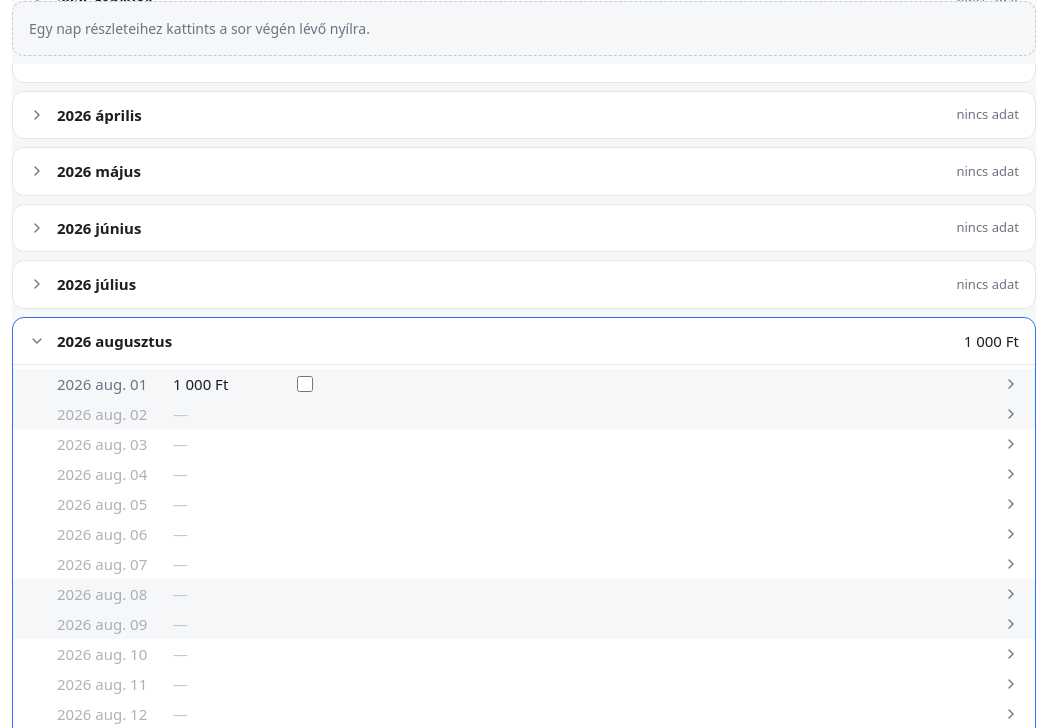
Test: HomeComponent › should untick the checkbox again and say so when the patch fails
The width and height of the screenshot is (1048, 728).
(page scrolled)
Click the checkbox with class "review".
click(305, 384)  # box [297,376,313,392]
(page scrolled)
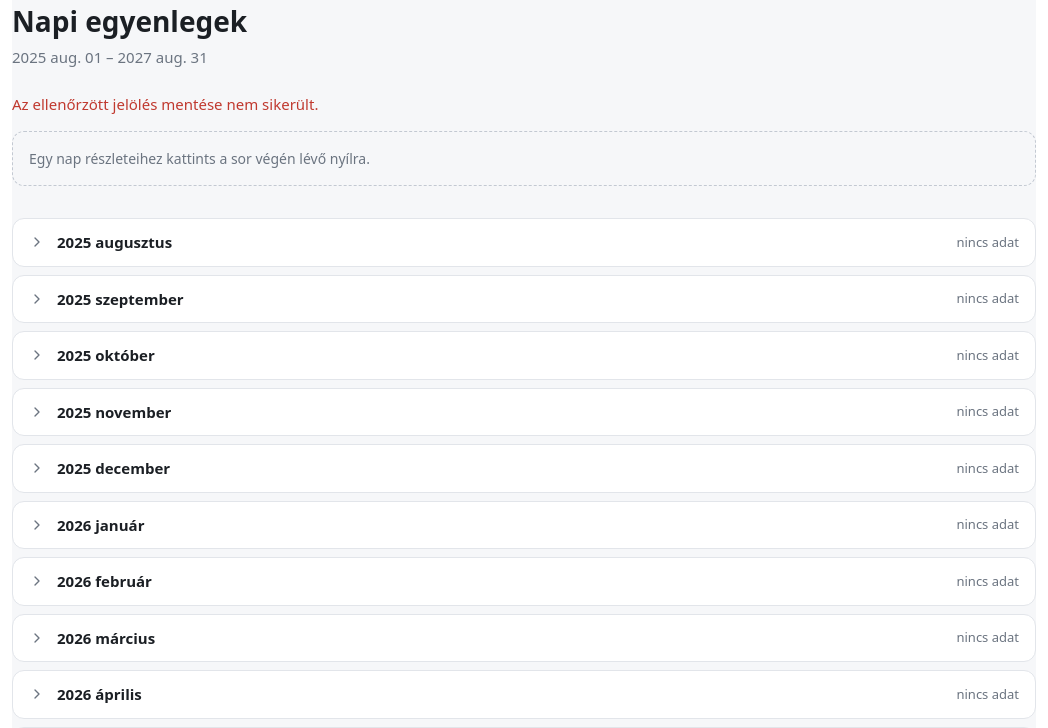
Now the text with class "review-error" shows "nem sikerült", box [12,94,318,114]
